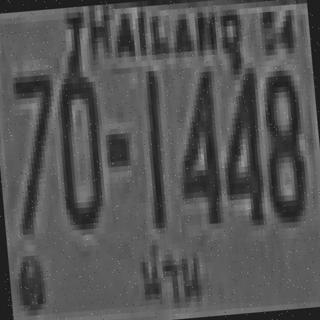N00: (52, 65, 106, 225)
N01: (141, 71, 168, 223)
N04: (170, 66, 223, 220), (216, 62, 266, 222)
N07: (8, 69, 62, 229)
N08: (257, 64, 307, 218)
P33: (129, 232, 209, 307)
